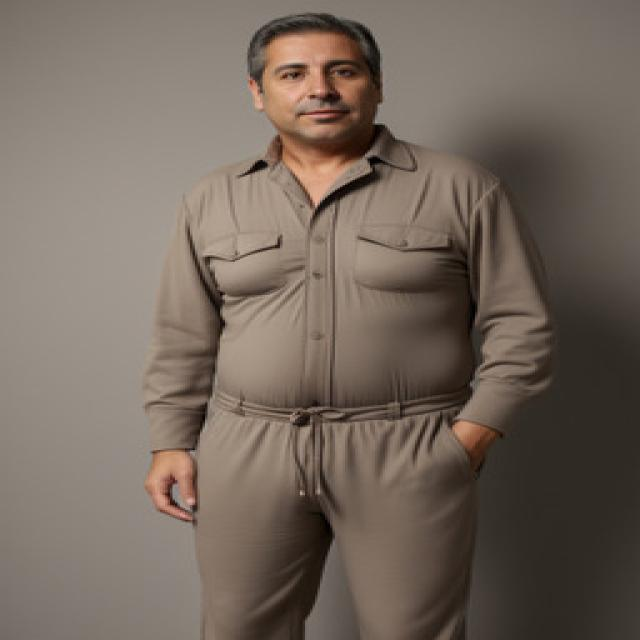Ai human 2: (125, 9, 558, 640)
